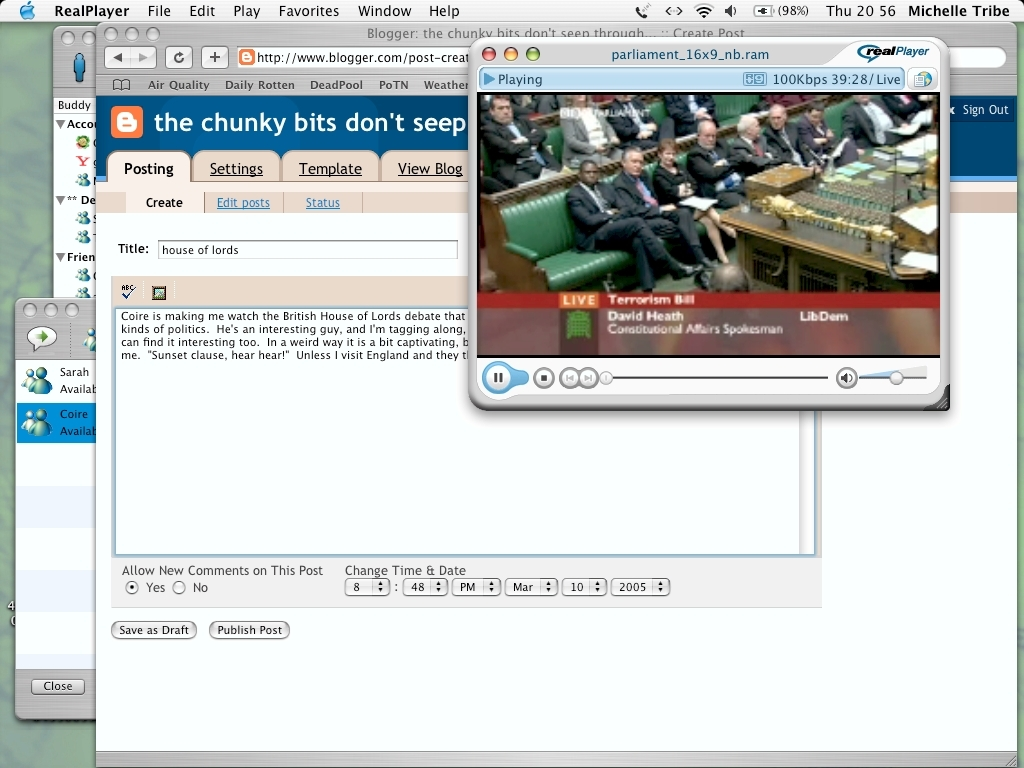Person: (481, 94, 936, 292)
